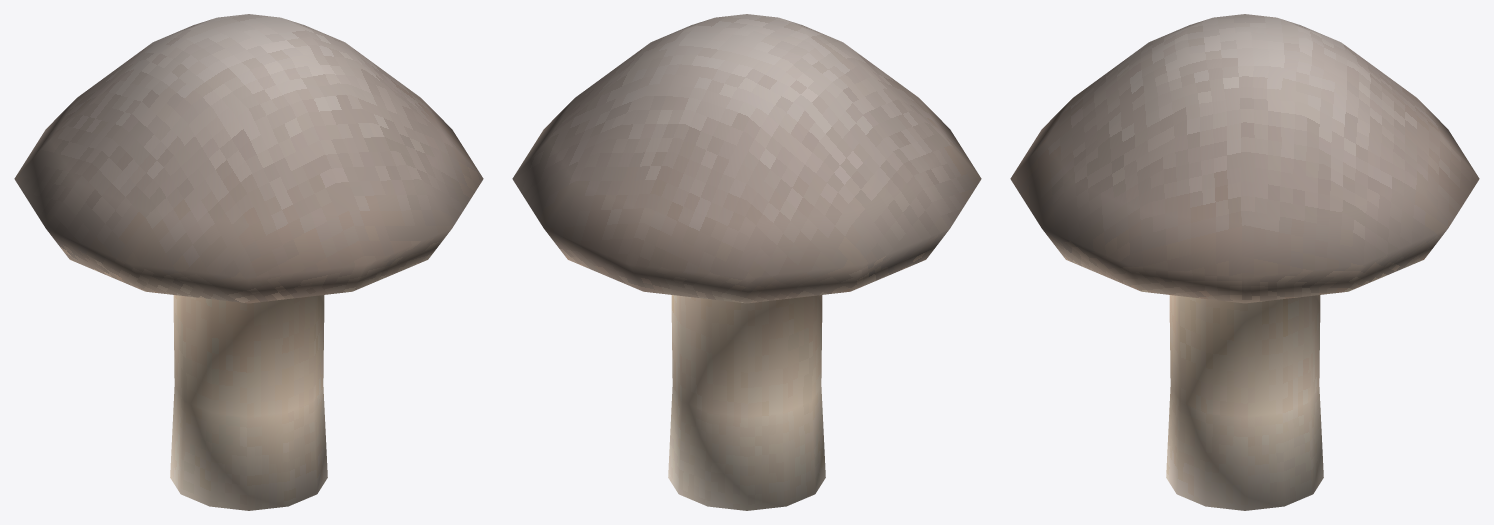
Rendered from Mushroom_Grey.fbx.
3 renders of one model, left to right at view 1: azimuth 30°, elevation 25°; view 2: azimuth 150°, elevation 25°; view 3: azimuth 270°, elevation 25°, orthographic.
Parts seen in each view (by area): view 1: Sphere.019; view 2: Sphere.019; view 3: Sphere.019.
Part boxes in pixels (box(x1,y1,x2,y2)): Sphere.019: box(14, 14, 483, 510); Sphere.019: box(512, 14, 981, 510); Sphere.019: box(1010, 14, 1479, 510).
Size of the model in its own units: 12.77 by 13.84 by 12.77.
2 materials, 2 textured.
